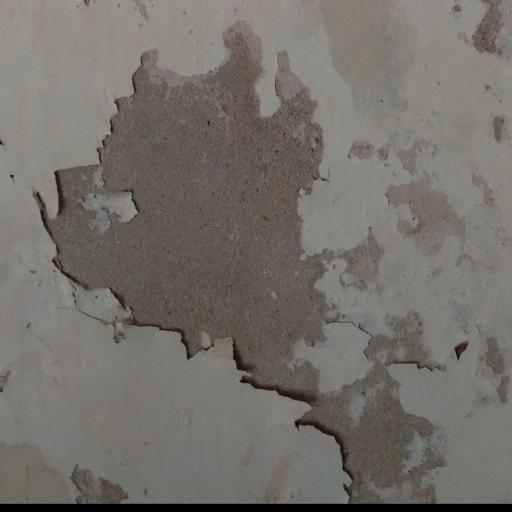peeling: (28, 6, 471, 512)
